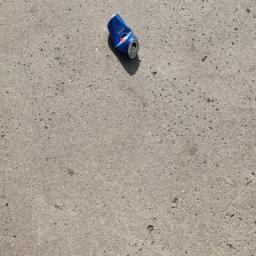FOD: (98, 13, 153, 79)
